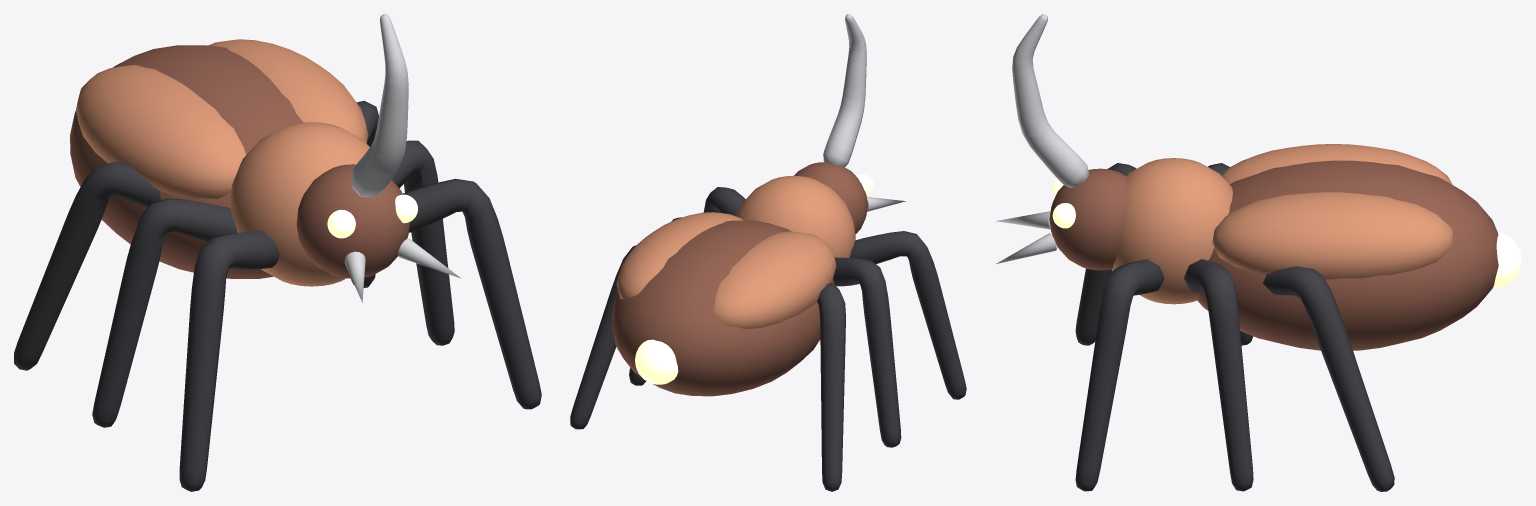
File: beetle.glb
The picture shows the model from 3 angles, left to right: view 1: azimuth 30°, elevation 25°; view 2: azimuth 150°, elevation 25°; view 3: azimuth 270°, elevation 25°; orthographic projection. The views are drawn at different scales.
Parts seen in each view (by area): view 1: Sphere; view 2: Sphere; view 3: Sphere.
Part boxes in pixels (left/top/right/bottom): Sphere: left=14, top=14, right=541, bottom=491; Sphere: left=570, top=14, right=966, bottom=491; Sphere: left=995, top=14, right=1521, bottom=491.
Size of the model in its own units: 0.8302 by 1 by 1.18.
